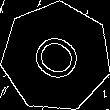O_SE: (23, 26, 89, 88)
